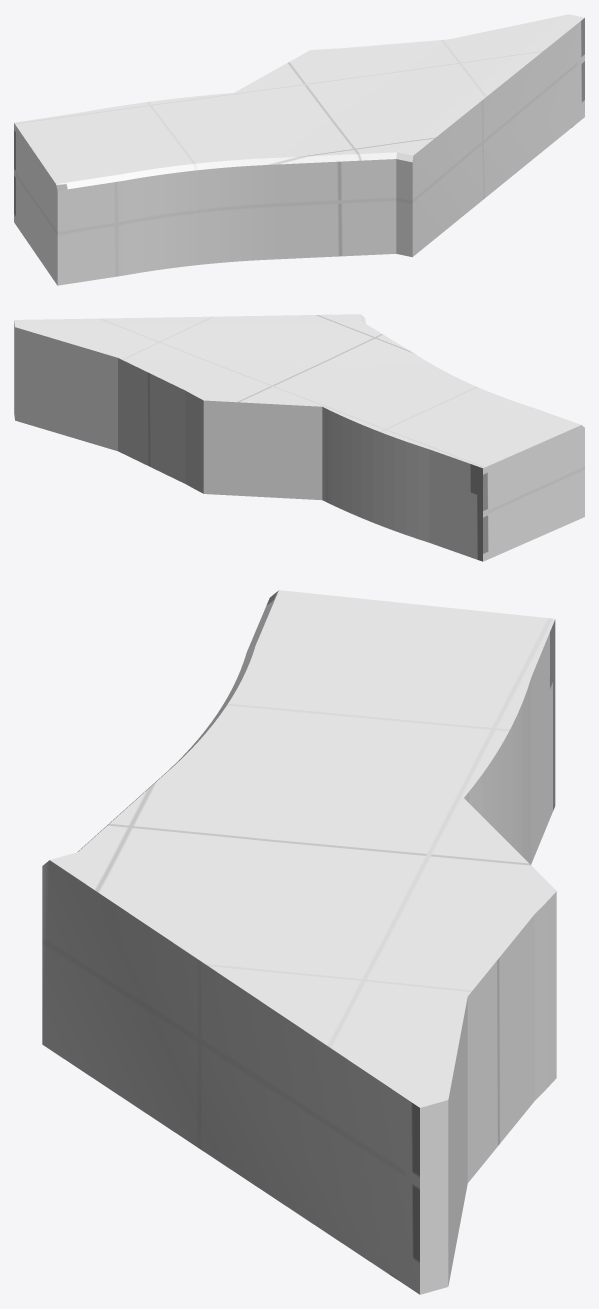
Rendered from Platform_RootsRolling_Arch_34_.fbx.
3 views of the same model, one above another, from view 1: azimuth 30°, elevation 25°; view 2: azimuth 150°, elevation 25°; view 3: azimuth 270°, elevation 25° (orthographic). The views are drawn at different scales.
Parts seen in each view (by area): view 1: Platform_RootsRolling_Arch_34_; view 2: Platform_RootsRolling_Arch_34_; view 3: Platform_RootsRolling_Arch_34_.
Part boxes in pixels (left/top/right/bottom): Platform_RootsRolling_Arch_34_: left=14, top=14, right=584, bottom=285; Platform_RootsRolling_Arch_34_: left=14, top=314, right=584, bottom=561; Platform_RootsRolling_Arch_34_: left=42, top=590, right=556, bottom=1294.
Bounding box in the file's own units: 128 × 21.6 × 53.39.
1 material, 1 textured.
